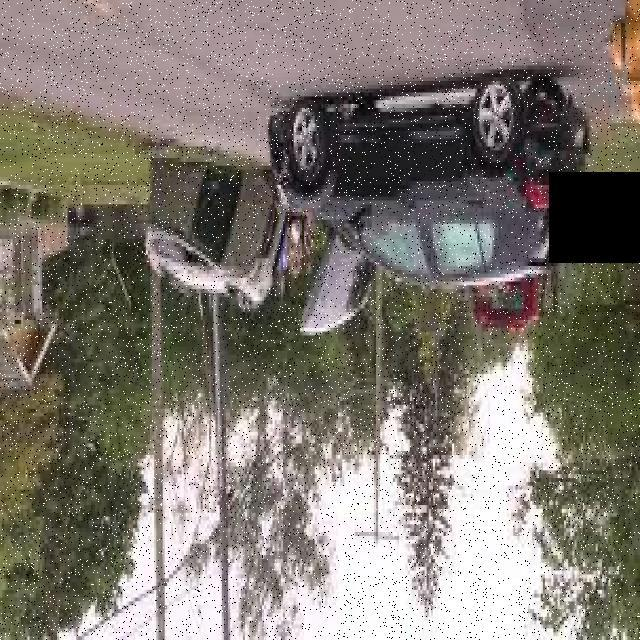severe: (147, 152, 290, 322)
